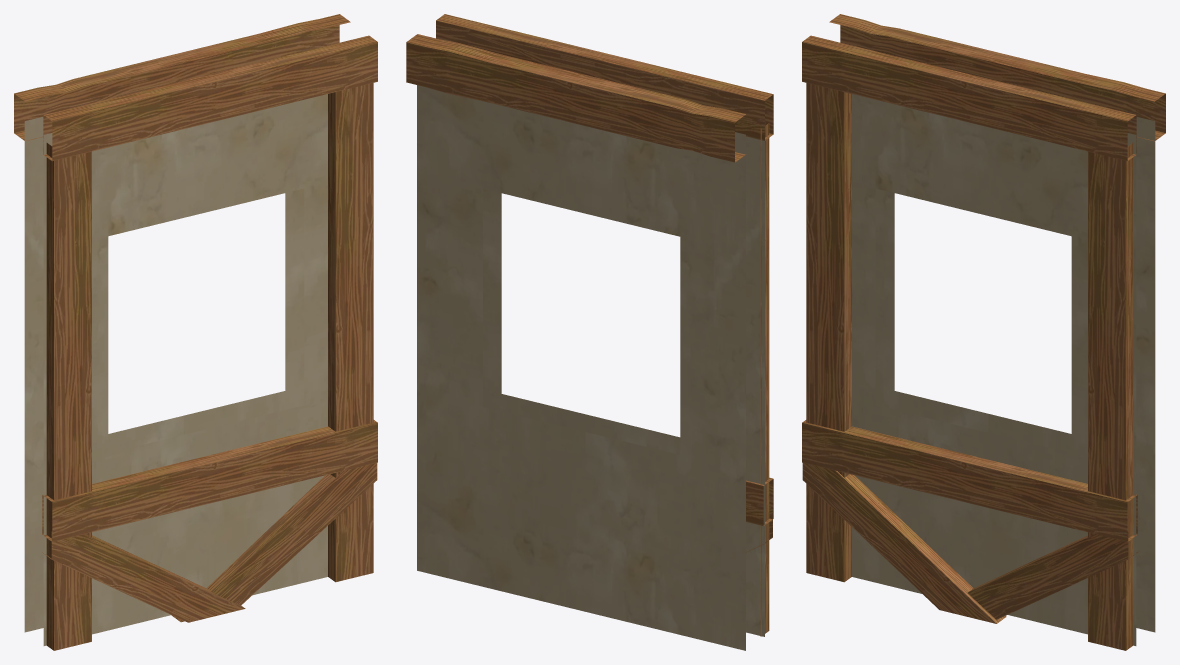
File: wall_plaster_window_wide_flat2.glb
The picture shows the model from 3 angles, left to right: view 1: azimuth 30°, elevation 25°; view 2: azimuth 150°, elevation 25°; view 3: azimuth 330°, elevation 25°; orthographic projection.
Size of the model in its own units: 2 by 3.15 by 0.4065.
2 materials, 2 textured.
